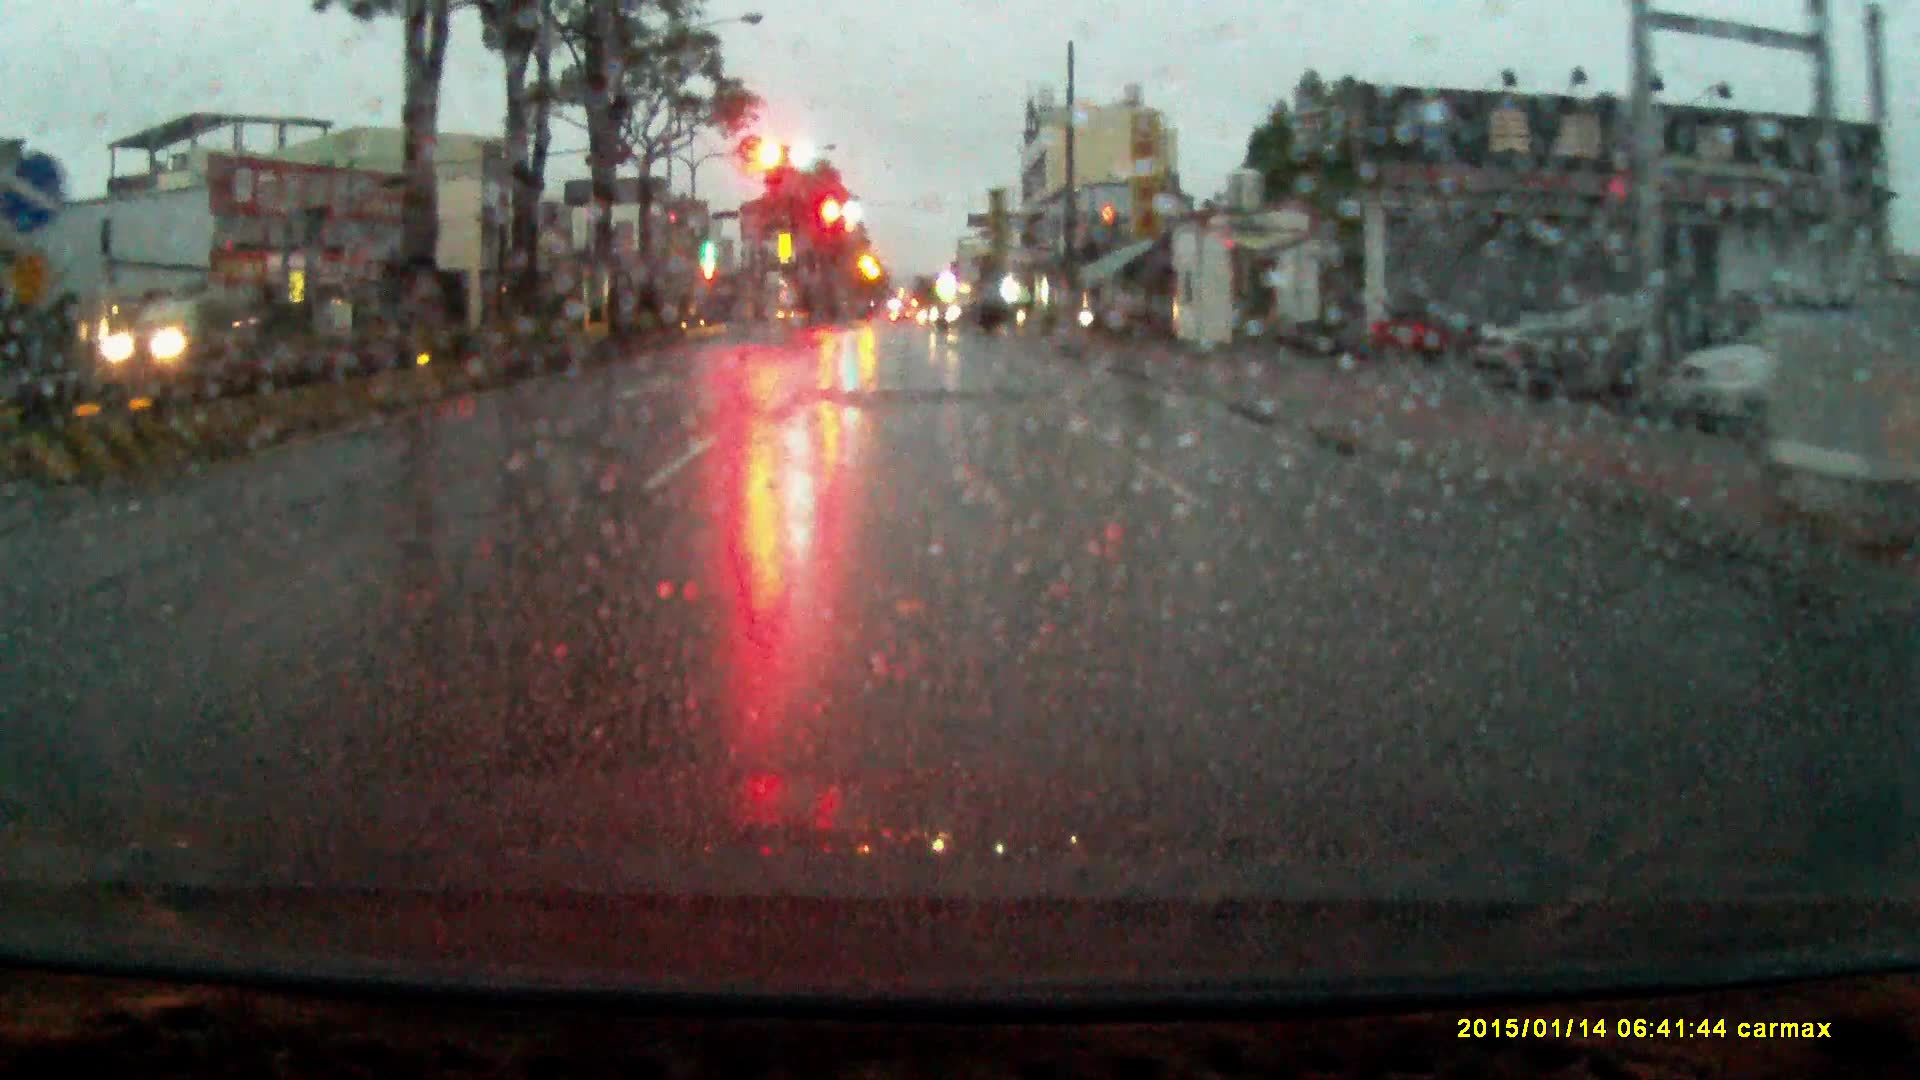vehicle: (1502, 287, 1771, 411), (102, 295, 235, 375), (931, 291, 1018, 339)
